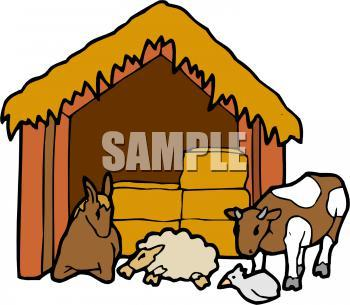bird: (213, 264, 285, 301)
cow: (222, 171, 349, 293)
horse: (46, 166, 120, 285)
sheep: (121, 225, 220, 291)
